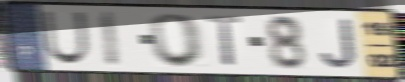8: (267, 14, 308, 72)
I: (100, 10, 122, 69)
J: (318, 17, 359, 71)
O: (148, 12, 207, 69)
T: (205, 14, 246, 69)
U: (40, 10, 91, 66)
